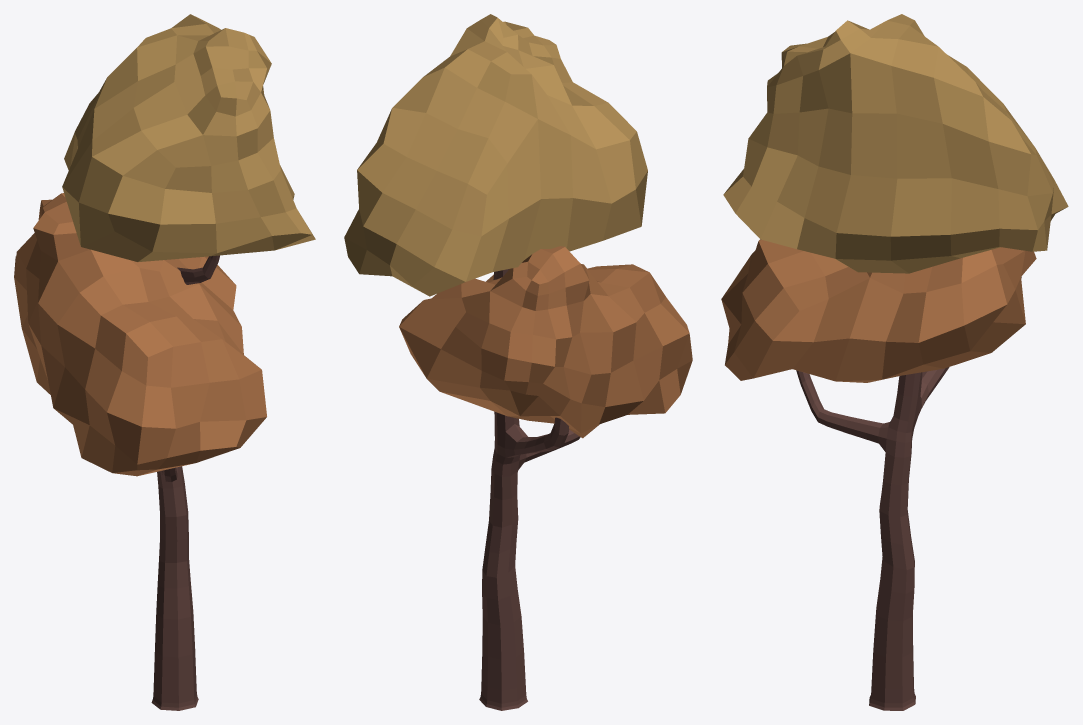
Rendered from CommonTree_Autumn_3.glb.
3 views of the same model, side by side, from view 1: azimuth 30°, elevation 25°; view 2: azimuth 150°, elevation 25°; view 3: azimuth 270°, elevation 25° (orthographic). The views are drawn at different scales.
Visible parts, largest first — view 1: CommonTree_Autumn_3_Cube.091; view 2: CommonTree_Autumn_3_Cube.091; view 3: CommonTree_Autumn_3_Cube.091.
Boxes of the visible parts, x1,y1,x2,y2 form: CommonTree_Autumn_3_Cube.091: (14,14,315,710); CommonTree_Autumn_3_Cube.091: (344,14,692,710); CommonTree_Autumn_3_Cube.091: (721,14,1068,710).
Bounding box in the file's own units: 1.28 × 3.46 × 1.56.
